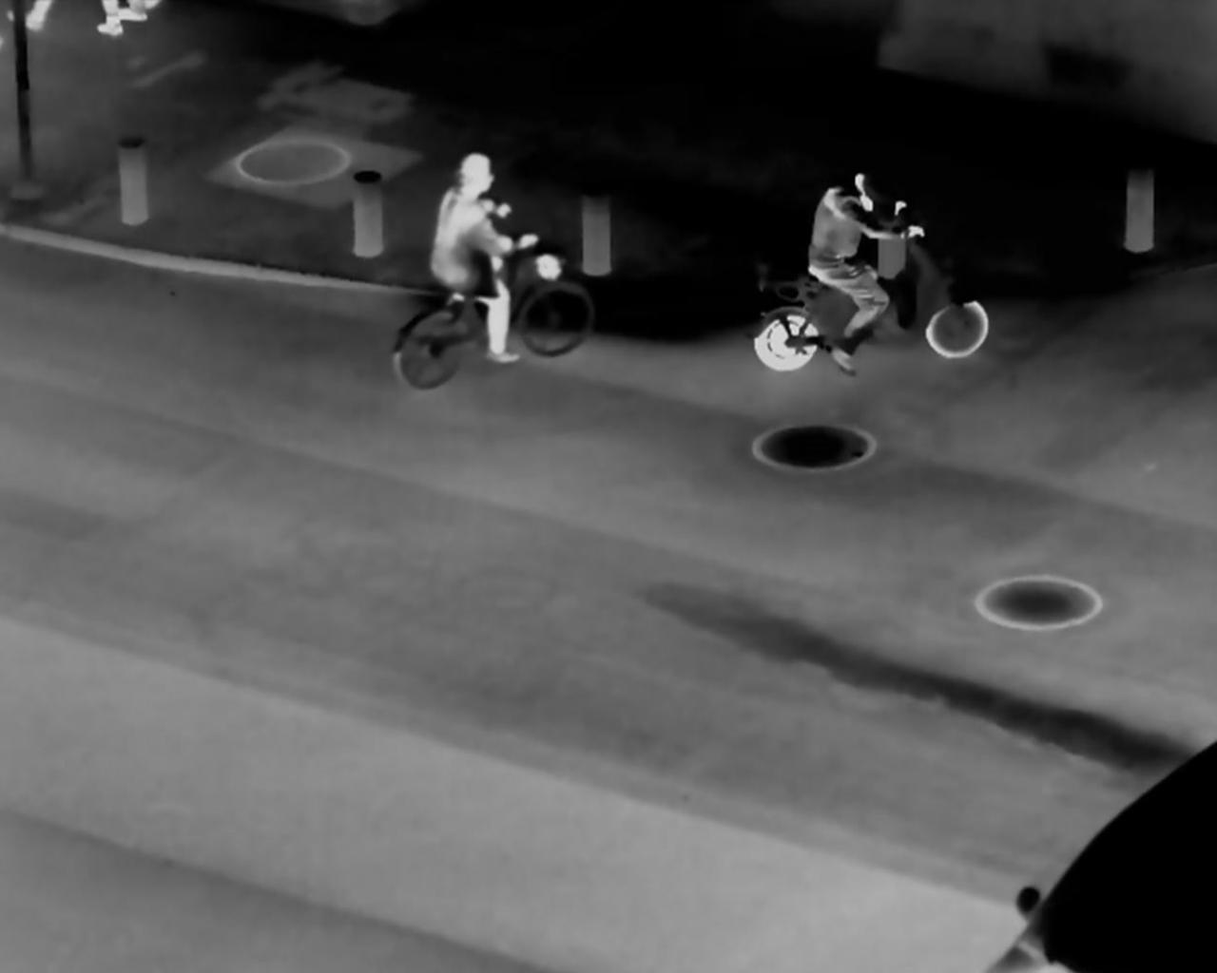person: (423, 132, 532, 372), (805, 155, 901, 380)
